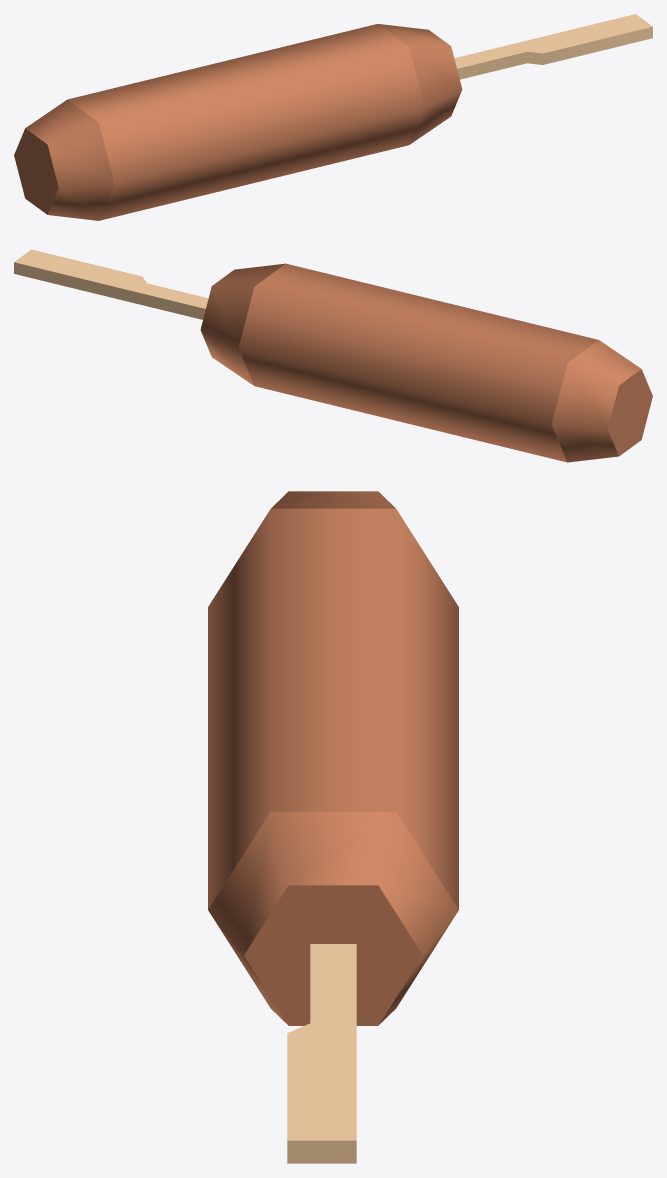
Rendered from Corn Dog.glb.
3 renders of one model, top to bottom at view 1: azimuth 30°, elevation 25°; view 2: azimuth 150°, elevation 25°; view 3: azimuth 270°, elevation 25°, orthographic. The views are drawn at different scales.
Parts seen in each view (by area): view 1: Corn Dog; view 2: Corn Dog; view 3: Corn Dog.
Boxes of the visible parts, x1=… form: Corn Dog: x1=14, y1=14, x2=652, y2=220; Corn Dog: x1=14, y1=249, x2=652, y2=462; Corn Dog: x1=208, y1=491, x2=458, y2=1163.
Bounding box in the file's own units: 0.2659 × 0.0414 × 0.0478.
